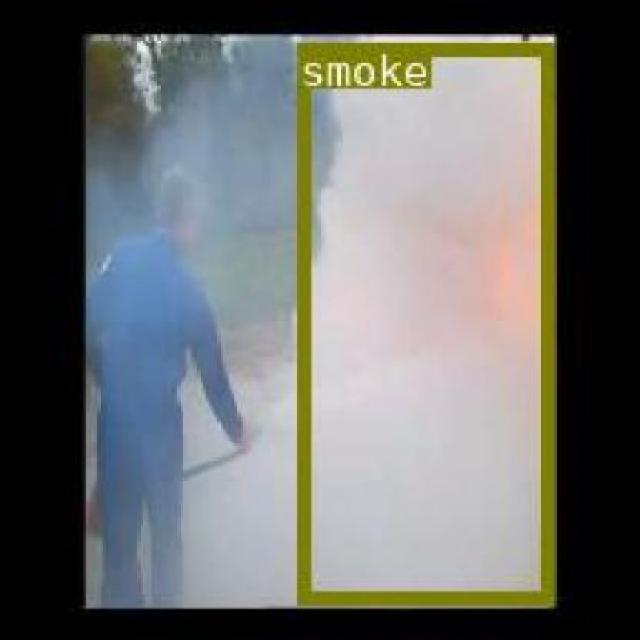Smoke: (296, 40, 552, 602)
